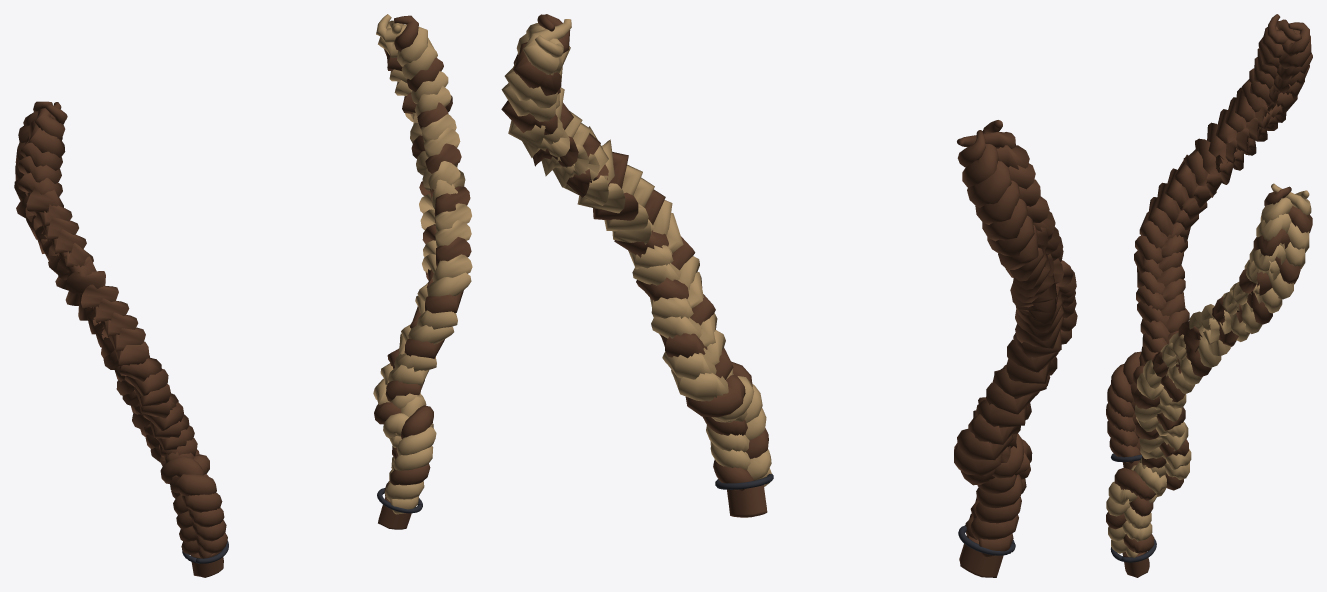
Rendered from Highlights-f74b1e6e771f251-hair.glb.
The picture shows the model from 3 angles, left to right: view 1: azimuth 30°, elevation 25°; view 2: azimuth 150°, elevation 25°; view 3: azimuth 270°, elevation 25°; orthographic projection. The views are drawn at different scales.
Parts seen in each view (by area): view 1: 226 hairLengths / Hair / chestnut226, 226 hairLengths / Hair / ties226; view 2: 226 hairLengths / Hair / chestnut226, 226 hairLengths / Hair / ties226; view 3: 226 hairLengths / Hair / chestnut226, 226 hairLengths / Hair / ties226.
Part boxes in pixels (box(x1,y1,x2,y2)): 226 hairLengths / Hair / chestnut226: box(14, 14, 472, 577); 226 hairLengths / Hair / ties226: box(182, 488, 422, 563); 226 hairLengths / Hair / chestnut226: box(501, 14, 1077, 577); 226 hairLengths / Hair / ties226: box(715, 474, 1015, 555); 226 hairLengths / Hair / chestnut226: box(1106, 14, 1312, 577); 226 hairLengths / Hair / ties226: box(1110, 453, 1156, 562).
Size of the model in its own units: 1.09 by 1.05 by 0.4628.
